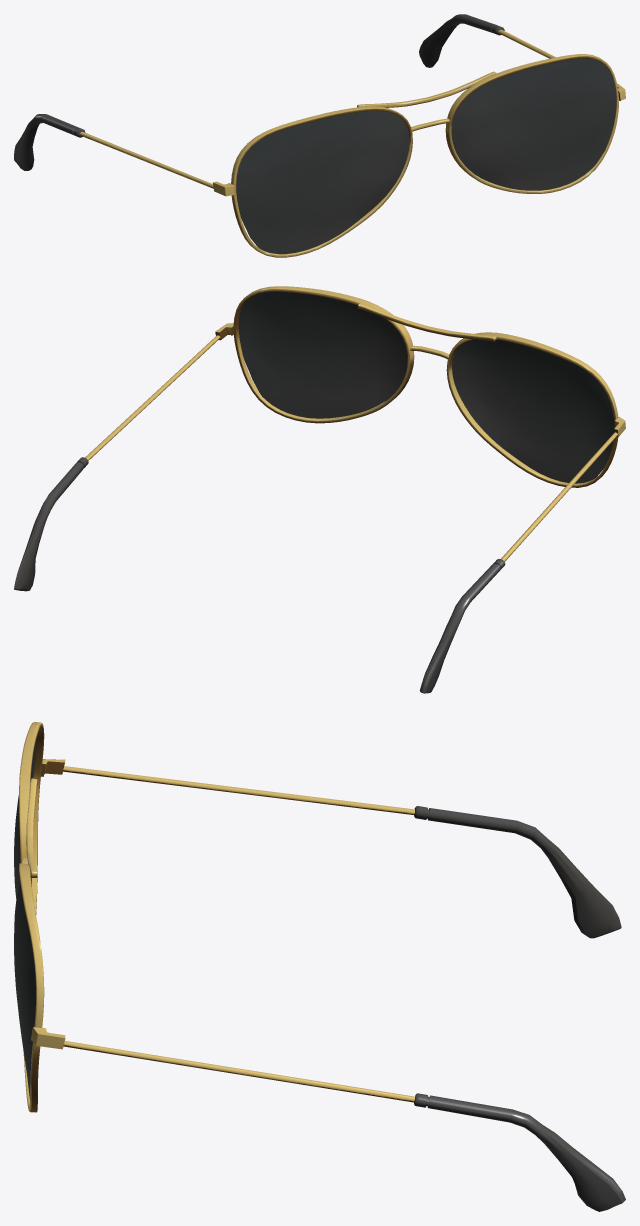
Rendered from AviatorSunglasses.glb.
3 views of the same model, one above another, from view 1: azimuth 30°, elevation 25°; view 2: azimuth 150°, elevation 25°; view 3: azimuth 270°, elevation 25° (orthographic). The views are drawn at different scales.
Visible parts, largest first — view 1: polySurface357, polySurface2, polySurface16, polySurface6, polySurface17; view 2: polySurface357, polySurface2, polySurface16, polySurface6; view 3: polySurface16, polySurface2, polySurface357, polySurface17, polySurface6.
Boxes of the visible parts, x1=… form: polySurface357: x1=236, y1=58, x2=616, y2=254; polySurface2: x1=231, y1=54, x2=618, y2=257; polySurface16: x1=14, y1=14, x2=555, y2=188; polySurface6: x1=357, y1=71, x2=496, y2=107; polySurface17: x1=212, y1=83, x2=625, y2=196; polySurface357: x1=238, y1=291, x2=614, y2=483; polySurface2: x1=233, y1=286, x2=618, y2=487; polySurface16: x1=14, y1=335, x2=617, y2=693; polySurface6: x1=358, y1=303, x2=496, y2=341; polySurface16: x1=63, y1=766, x2=625, y2=1211; polySurface2: x1=19, y1=722, x2=44, y2=1112; polySurface357: x1=14, y1=738, x2=36, y2=1099; polySurface17: x1=31, y1=759, x2=65, y2=1049; polySurface6: x1=26, y1=778, x2=37, y2=877.
Bounding box in the file's own units: 0.0479 × 0.0192 × 0.0421.
Materials: 1 (1 with a texture image).
